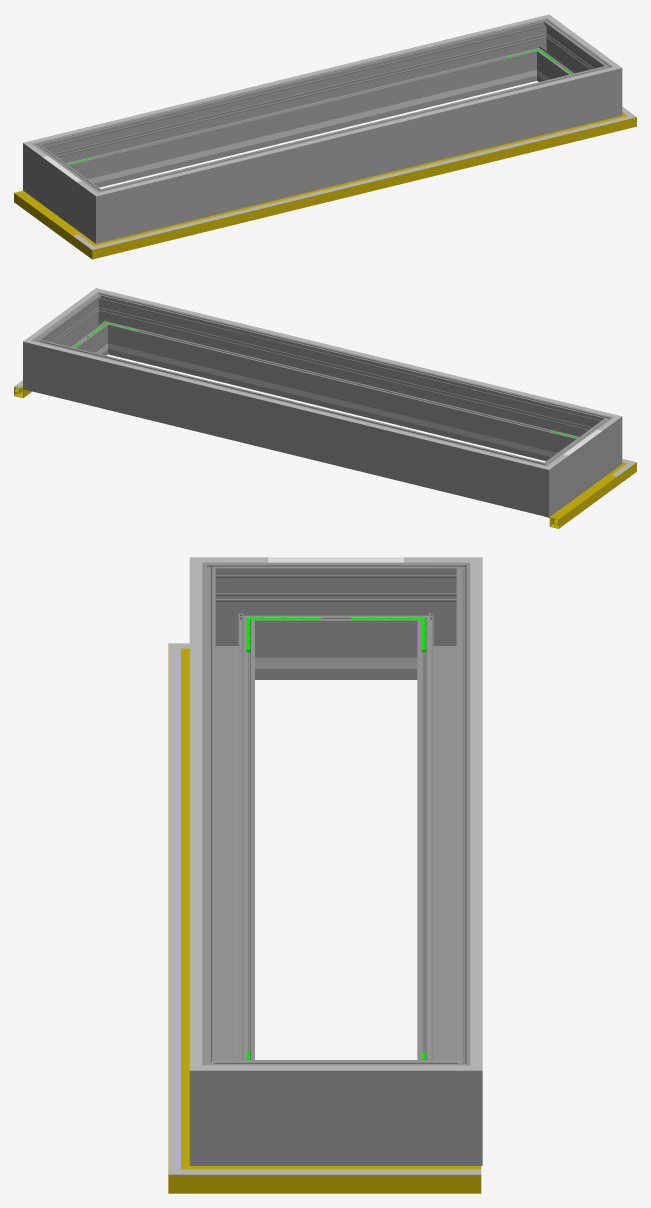
The picture shows the model from 3 angles, top to bottom: view 1: azimuth 30°, elevation 25°; view 2: azimuth 150°, elevation 25°; view 3: azimuth 270°, elevation 25°; orthographic projection. The views are drawn at different scales.
Parts seen in each view (by area): view 1: 3DGeom-276, 3DGeom-298, 3DGeom-11, 3DGeom-270, 3DGeom-244, 3DGeom-290, 3DGeom-268, 3DGeom-20, 3DGeom-304, 3DGeom-316, 3DGeom-284, 3DGeom-297 (+4 smaller); view 2: 3DGeom-298, 3DGeom-276, 3DGeom-278, 3DGeom-239, 3DGeom-268, 3DGeom-284, 3DGeom-304, 3DGeom-316, 3DGeom-290, 3DGeom-297, 3DGeom-270, 3DGeom-6 (+1 smaller); view 3: 3DGeom-276, 3DGeom-298, 3DGeom-268, 3DGeom-297, 3DGeom-290, 3DGeom-284, 3DGeom-316, 3DGeom-20, 3DGeom-304, 3DGeom-270, 3DGeom-278, 3DGeom-16 (+7 smaller).
Part boxes in pixels (<box>): 3DGeom-276: <box>60,25,531,187</box>; 3DGeom-298: <box>124,71,588,235</box>; 3DGeom-11: <box>121,121,602,250</box>; 3DGeom-270: <box>76,179,130,243</box>; 3DGeom-244: <box>100,78,504,181</box>; 3DGeom-290: <box>582,55,622,123</box>; 3DGeom-268: <box>42,154,87,229</box>; 3DGeom-20: <box>123,123,602,241</box>; 3DGeom-304: <box>57,23,517,136</box>; 3DGeom-316: <box>127,74,587,187</box>; 3DGeom-284: <box>518,16,565,81</box>; 3DGeom-297: <box>540,30,596,81</box>; 3DGeom-298: <box>113,298,584,460</box>; 3DGeom-276: <box>57,345,521,508</box>; 3DGeom-278: <box>515,453,568,517</box>; 3DGeom-239: <box>141,351,544,455</box>; 3DGeom-268: <box>558,428,602,502</box>; 3DGeom-284: <box>23,328,62,397</box>; 3DGeom-304: <box>57,347,517,461</box>; 3DGeom-316: <box>127,296,587,410</box>; 3DGeom-290: <box>80,291,126,355</box>; 3DGeom-297: <box>48,303,104,355</box>; 3DGeom-270: <box>572,410,622,477</box>; 3DGeom-6: <box>544,474,617,528</box>; 3DGeom-276: <box>417,590,469,1059</box>; 3DGeom-298: <box>202,590,254,1059</box>; 3DGeom-268: <box>268,562,403,679</box>; 3DGeom-297: <box>268,1060,403,1165</box>; 3DGeom-290: <box>189,1037,268,1165</box>; 3DGeom-284: <box>404,1037,482,1165</box>; 3DGeom-316: <box>189,590,202,1037</box>; 3DGeom-20: <box>168,676,180,1141</box>; 3DGeom-304: <box>470,590,482,1037</box>; 3DGeom-270: <box>202,562,268,679</box>; 3DGeom-278: <box>404,562,469,679</box>; 3DGeom-16: <box>247,1166,481,1193</box>.
Bounding box in the file's own units: 2.44 × 0.2434 × 0.6096.
